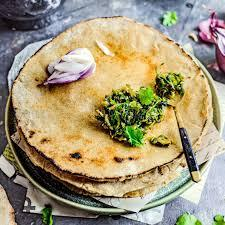bhakri: (16, 15, 215, 176)
salad: (33, 46, 105, 87)
